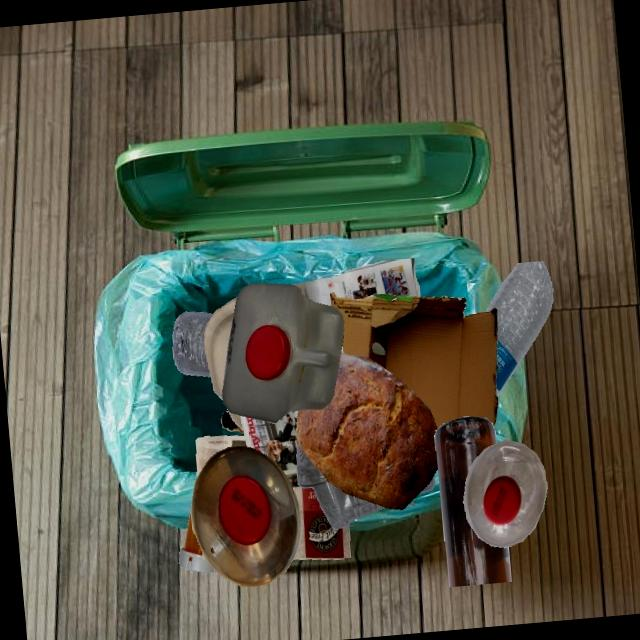biowaste: (295, 353, 437, 509)
cardboard: (330, 292, 498, 429)
glass: (434, 416, 511, 587), (220, 411, 244, 433)
paper: (261, 293, 437, 469), (205, 447, 311, 558), (288, 258, 420, 304), (292, 487, 350, 559), (204, 297, 236, 400), (340, 345, 343, 354)
plastic: (221, 283, 343, 423), (191, 445, 301, 586), (485, 260, 553, 397), (463, 439, 547, 547), (296, 443, 385, 529), (178, 486, 216, 572), (172, 311, 213, 376)
